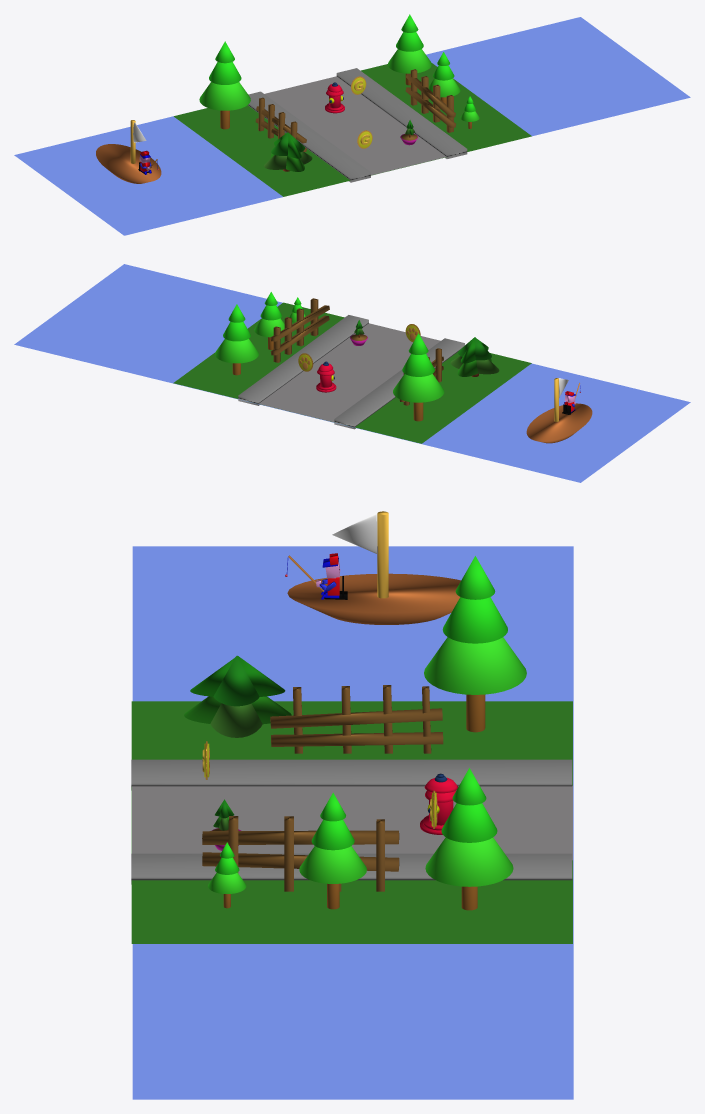
File: camino 02 catto.fbx
3 views of the same model, one above another, from view 1: azimuth 30°, elevation 25°; view 2: azimuth 150°, elevation 25°; view 3: azimuth 270°, elevation 25° (orthographic). The views are drawn at different scales.
Visible parts, largest first — view 1: agua, pasto, calle, banqueta izrd.001, Cilindro.023, Cono.009, banqueta izrd, cerca 2 maderas 2.002, Cilindro.008, Cono.007, cerca 2 maderas 2.001, Cilindro.015 (+1 smaller); view 2: agua, pasto, calle, banqueta izrd.001, Cono.009, Cilindro.023, banqueta izrd, cerca 2 maderas 2.002, Cilindro.008, Cono.007, Cilindro.015, Hidrante; view 3: agua, pasto, calle, banqueta izrd, Cono.009, Cilindro.023, Cilindro.008, banqueta izrd.001, cerca 2 maderas 2.001, cerca 2 maderas 2.002, Cono.007, Cilindro.015 (+2 smaller).
Part boxes in pixels (x1=…): agua: x1=14, y1=17, x2=690, y2=235; pasto: x1=174, y1=63, x2=531, y2=196; calle: x1=264, y1=76, x2=445, y2=175; banqueta izrd.001: x1=336, y1=68, x2=467, y2=158; Cilindro.023: x1=199, y1=41, x2=250, y2=129; Cono.009: x1=96, y1=120, x2=161, y2=183; banqueta izrd: x1=248, y1=91, x2=370, y2=182; cerca 2 maderas 2.002: x1=405, y1=69, x2=455, y2=132; Cilindro.008: x1=388, y1=14, x2=431, y2=85; Cono.007: x1=264, y1=132, x2=312, y2=171; cerca 2 maderas 2.001: x1=255, y1=97, x2=306, y2=151; Cilindro.015: x1=428, y1=52, x2=460, y2=104; agua: x1=14, y1=264, x2=690, y2=482; pasto: x1=173, y1=302, x2=531, y2=443; calle: x1=259, y1=323, x2=440, y2=422; banqueta izrd.001: x1=238, y1=315, x2=368, y2=405; Cono.009: x1=526, y1=378, x2=592, y2=443; Cilindro.023: x1=393, y1=333, x2=444, y2=421; banqueta izrd: x1=334, y1=338, x2=464, y2=429; cerca 2 maderas 2.002: x1=270, y1=298, x2=329, y2=362; Cilindro.008: x1=215, y1=304, x2=258, y2=375; Cono.007: x1=450, y1=337, x2=499, y2=376; Cilindro.015: x1=254, y1=292, x2=284, y2=349; Hidrante: x1=316, y1=361, x2=336, y2=392; agua: x1=132, y1=546, x2=573, y2=1099; pasto: x1=131, y1=701, x2=572, y2=943; calle: x1=132, y1=785, x2=572, y2=860; banqueta izrd: x1=131, y1=759, x2=572, y2=790; Cono.009: x1=285, y1=511, x2=460, y2=624; Cilindro.023: x1=424, y1=556, x2=526, y2=732; Cilindro.008: x1=425, y1=768, x2=513, y2=910; banqueta izrd.001: x1=131, y1=853, x2=572, y2=884; cerca 2 maderas 2.001: x1=270, y1=685, x2=443, y2=753; cerca 2 maderas 2.002: x1=202, y1=816, x2=399, y2=891; Cono.007: x1=184, y1=655, x2=291, y2=737; Cilindro.015: x1=299, y1=792, x2=366, y2=909.
Size of the model in its own units: 5895 by 999 by 1991.
